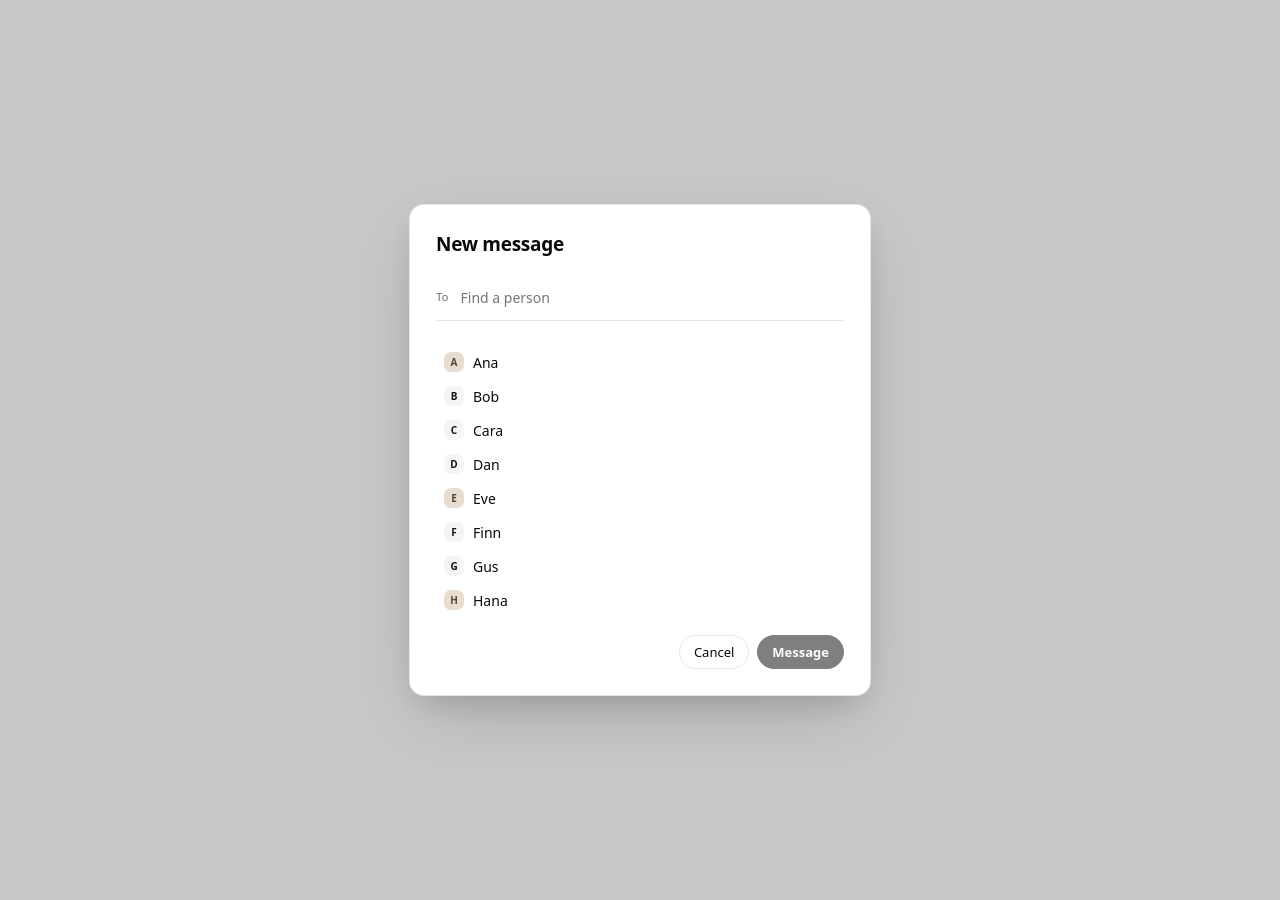
Test: the new message dialog › narrows the list as you type
Type "ca" into the field labelled "Find a person".
click(651, 298); type("ca")  # box x1=458 y1=283 x2=844 y2=312
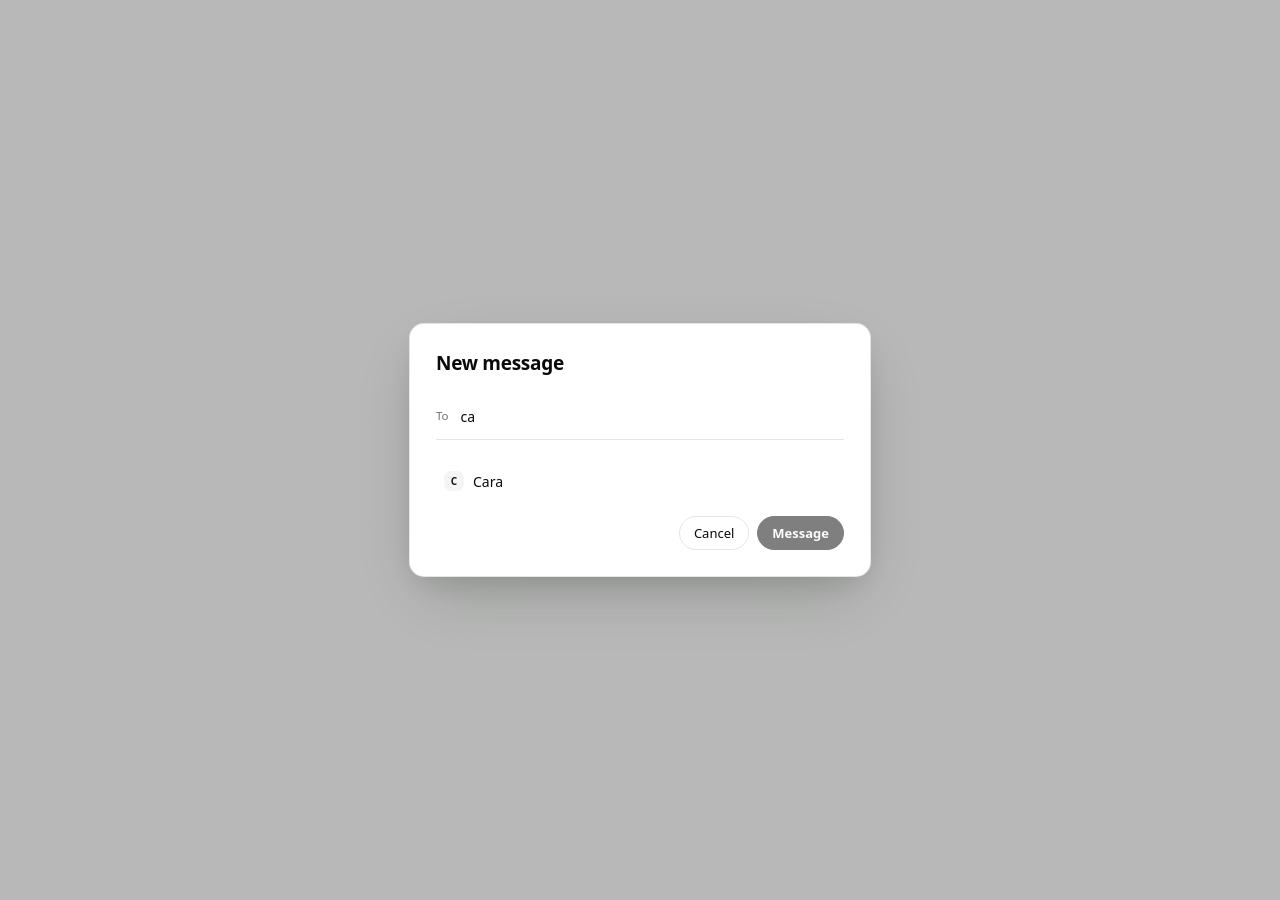
Check: the button "C Cara" is shown, box x1=436 y1=464 x2=844 y2=498
Check: the button "Bob" is gone
